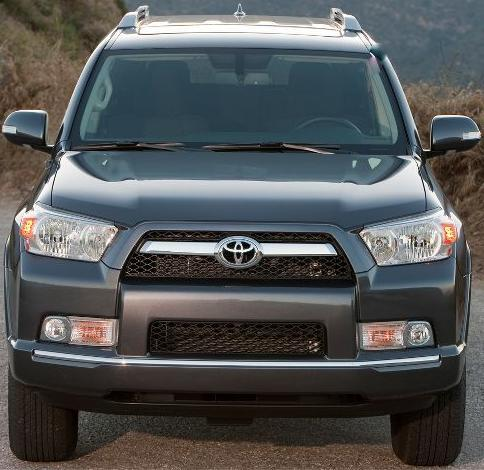front_view: (10, 189, 455, 393)
headlight: (8, 196, 138, 271)
